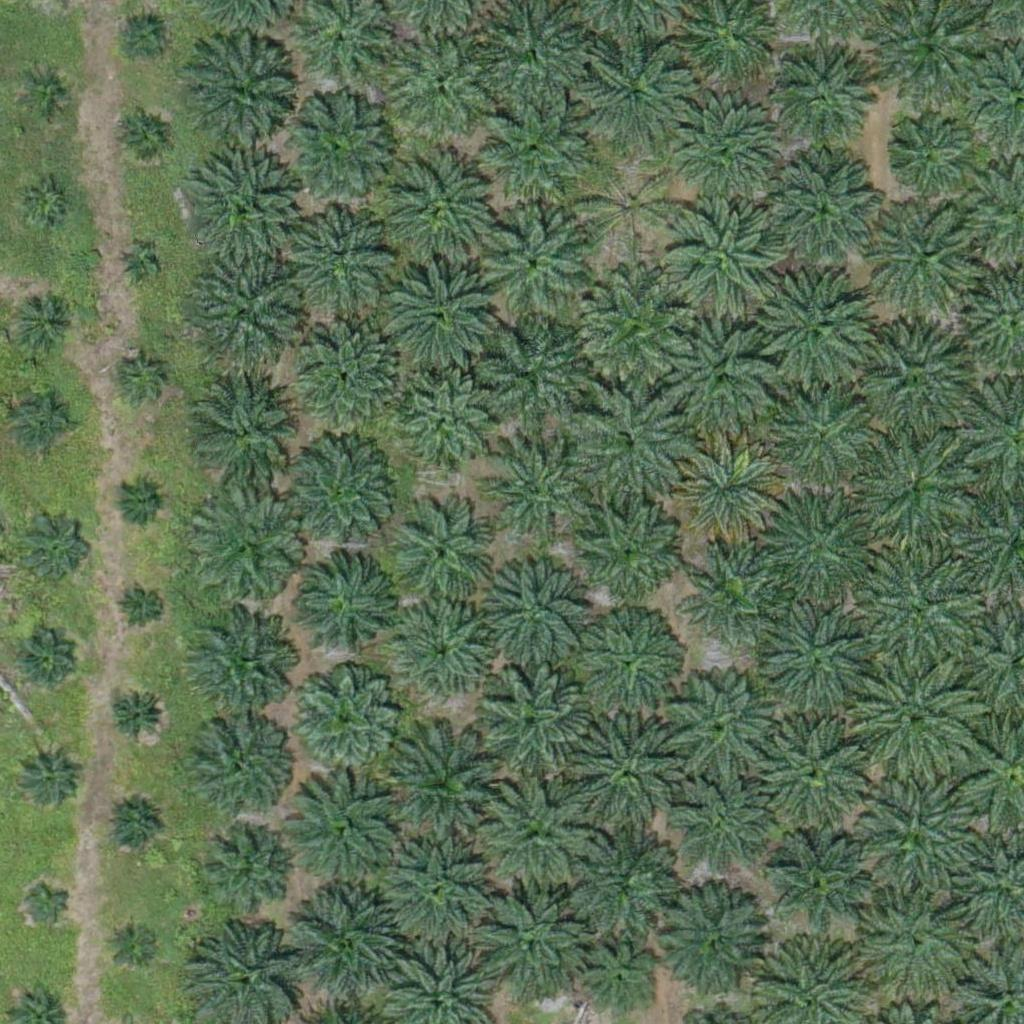Kelapa_Sawit: (385, 724, 510, 850), (852, 429, 977, 555), (858, 548, 983, 674), (852, 651, 977, 776), (380, 832, 493, 946), (290, 777, 403, 891), (869, 200, 982, 314), (768, 153, 881, 267), (288, 662, 401, 776), (192, 494, 305, 608), (653, 889, 766, 1002), (571, 717, 684, 830), (557, 818, 670, 931), (291, 883, 404, 996), (855, 325, 968, 438), (756, 270, 869, 383), (189, 153, 302, 266), (190, 255, 303, 368), (190, 370, 303, 483), (386, 25, 499, 138), (473, 318, 586, 431), (481, 210, 594, 323), (477, 93, 590, 206), (577, 271, 690, 384), (671, 436, 784, 549), (668, 669, 781, 782), (573, 389, 686, 502), (569, 494, 682, 607), (282, 439, 395, 552), (471, 878, 583, 992), (672, 101, 784, 215), (185, 613, 297, 727), (859, 774, 971, 887), (857, 883, 969, 996), (482, 776, 594, 889), (768, 380, 880, 493), (758, 489, 870, 602), (758, 600, 870, 713), (757, 712, 869, 825), (187, 42, 299, 155), (284, 91, 396, 204), (389, 149, 501, 262), (385, 256, 497, 369), (579, 36, 691, 149), (664, 320, 776, 433), (665, 198, 777, 311), (481, 434, 593, 547), (477, 666, 589, 779), (580, 158, 680, 259), (767, 836, 867, 937), (300, 322, 400, 423), (296, 208, 396, 309), (397, 376, 497, 477), (579, 614, 679, 715), (486, 559, 586, 660), (394, 508, 494, 609), (191, 711, 291, 812), (774, 43, 874, 143), (395, 601, 495, 701), (299, 555, 399, 655), (201, 828, 289, 916), (689, 551, 776, 640), (676, 783, 763, 871), (577, 942, 652, 1018), (888, 119, 963, 195), (19, 507, 94, 582), (15, 634, 78, 697), (105, 684, 168, 747), (15, 294, 77, 357), (14, 391, 76, 454), (16, 745, 78, 808), (102, 796, 164, 859), (117, 351, 167, 402), (108, 913, 158, 964), (23, 875, 73, 926), (113, 475, 163, 526), (21, 179, 71, 229), (22, 70, 72, 120), (117, 583, 167, 633), (119, 11, 169, 61), (120, 114, 170, 164), (119, 246, 157, 284)
